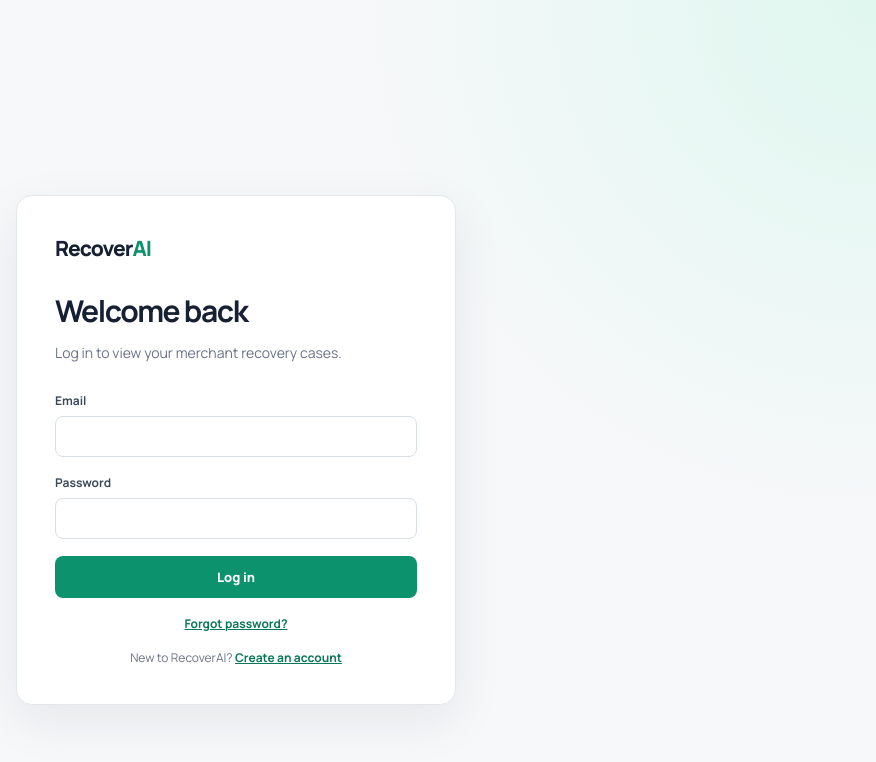
merchant authentication flow › shows a login failure without persisting a token
Type "owner@acme.test" into the field labelled "Email" at (236, 436), box [55,416,417,457]
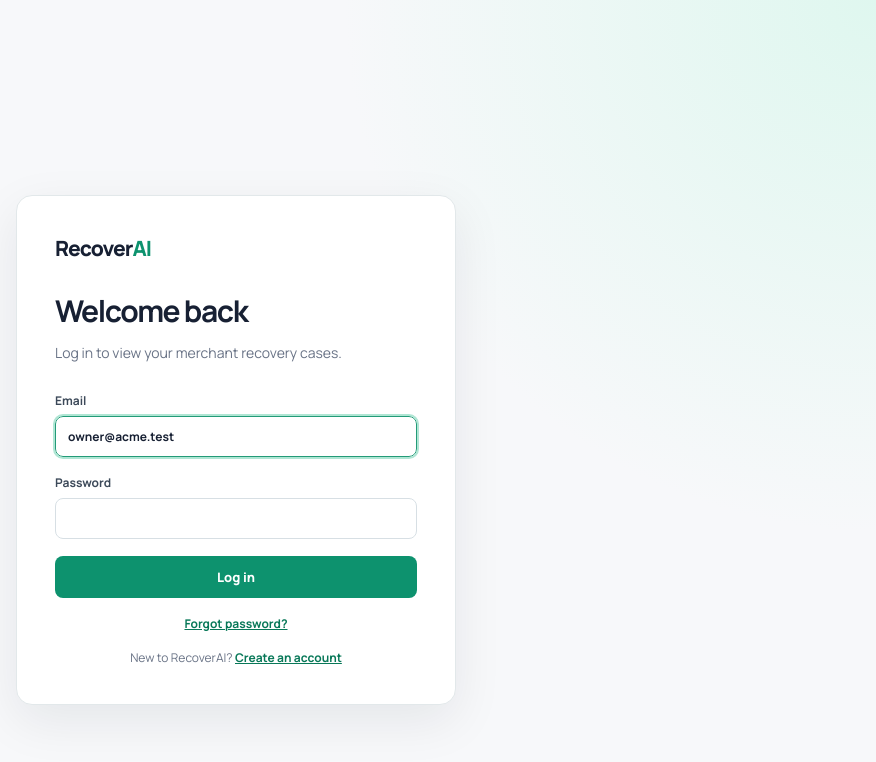
Type "wrong-password" into the password field labelled "Password" at (236, 518), box [55,498,417,539]
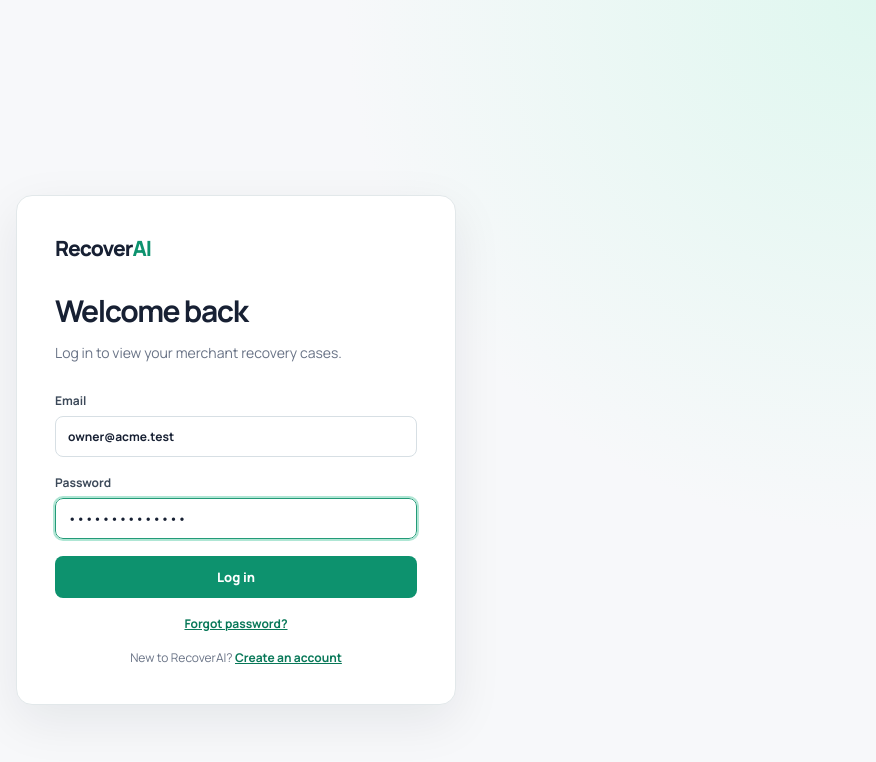
Click the button "Log in" at (236, 577), box [55,556,417,598]
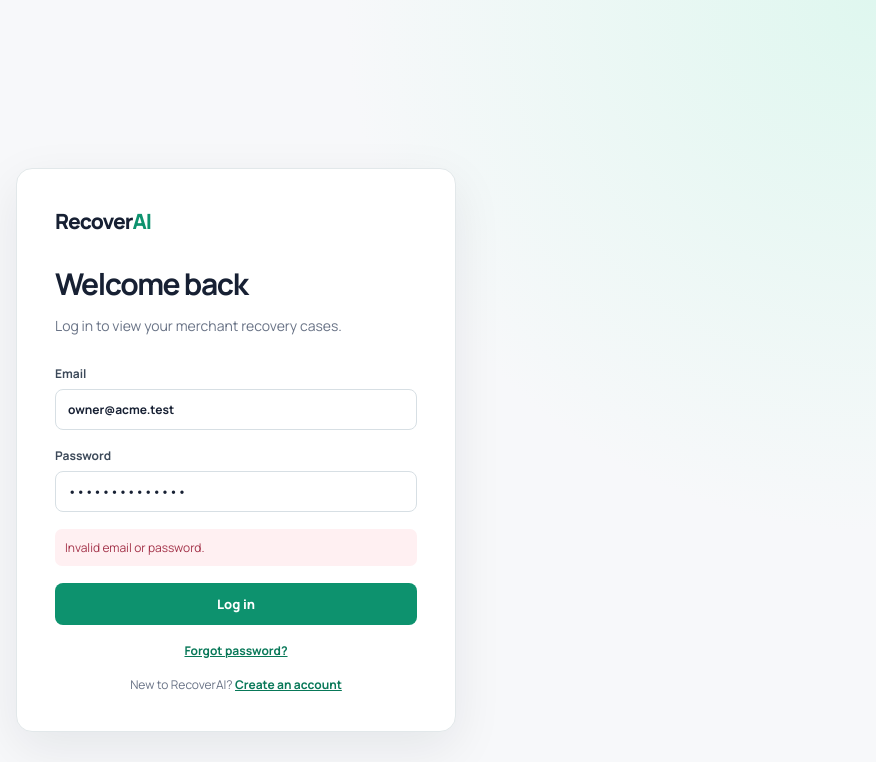
Expected: the message reads "Invalid email or password.", [65,539,204,556]
